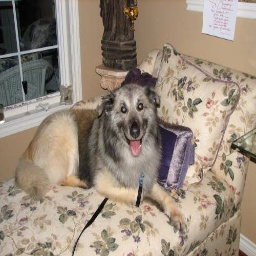dog: (16, 83, 180, 219)
